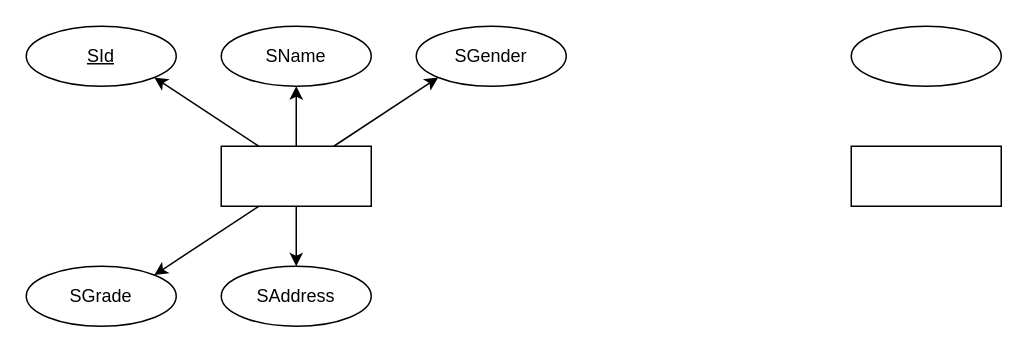
The diagram is 1028 pixels wide and 353 high, and some of its shapes have lost their labels. The shapes that lost their labels are listed below. From the top down, each one's centre as x and y in pixels, then its label:
[925,55]: Attribute
[295,175]: STUDENT
[925,175]: CLASS
